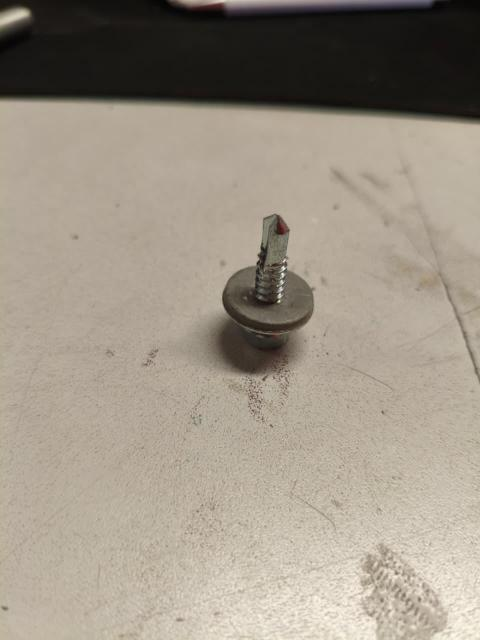Metal: (222, 212, 315, 352)
